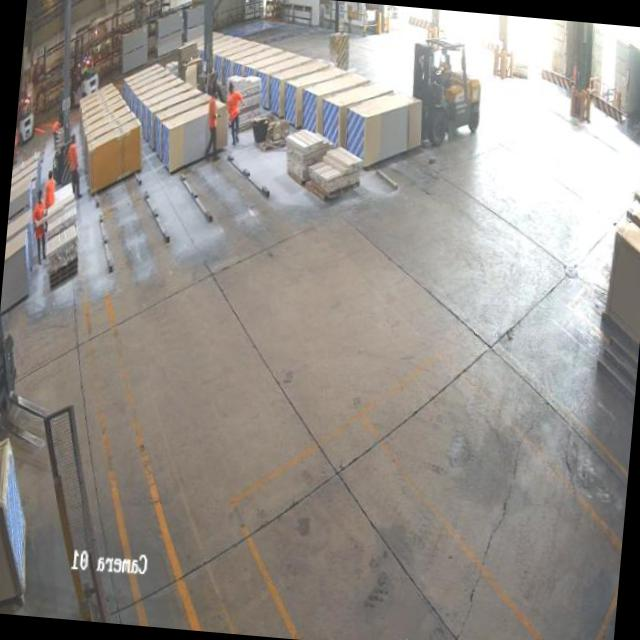forklift: (406, 27, 489, 152), (16, 90, 36, 142)
person: (199, 80, 226, 168), (28, 186, 49, 264), (224, 80, 245, 146), (65, 134, 84, 192), (42, 166, 58, 208)
